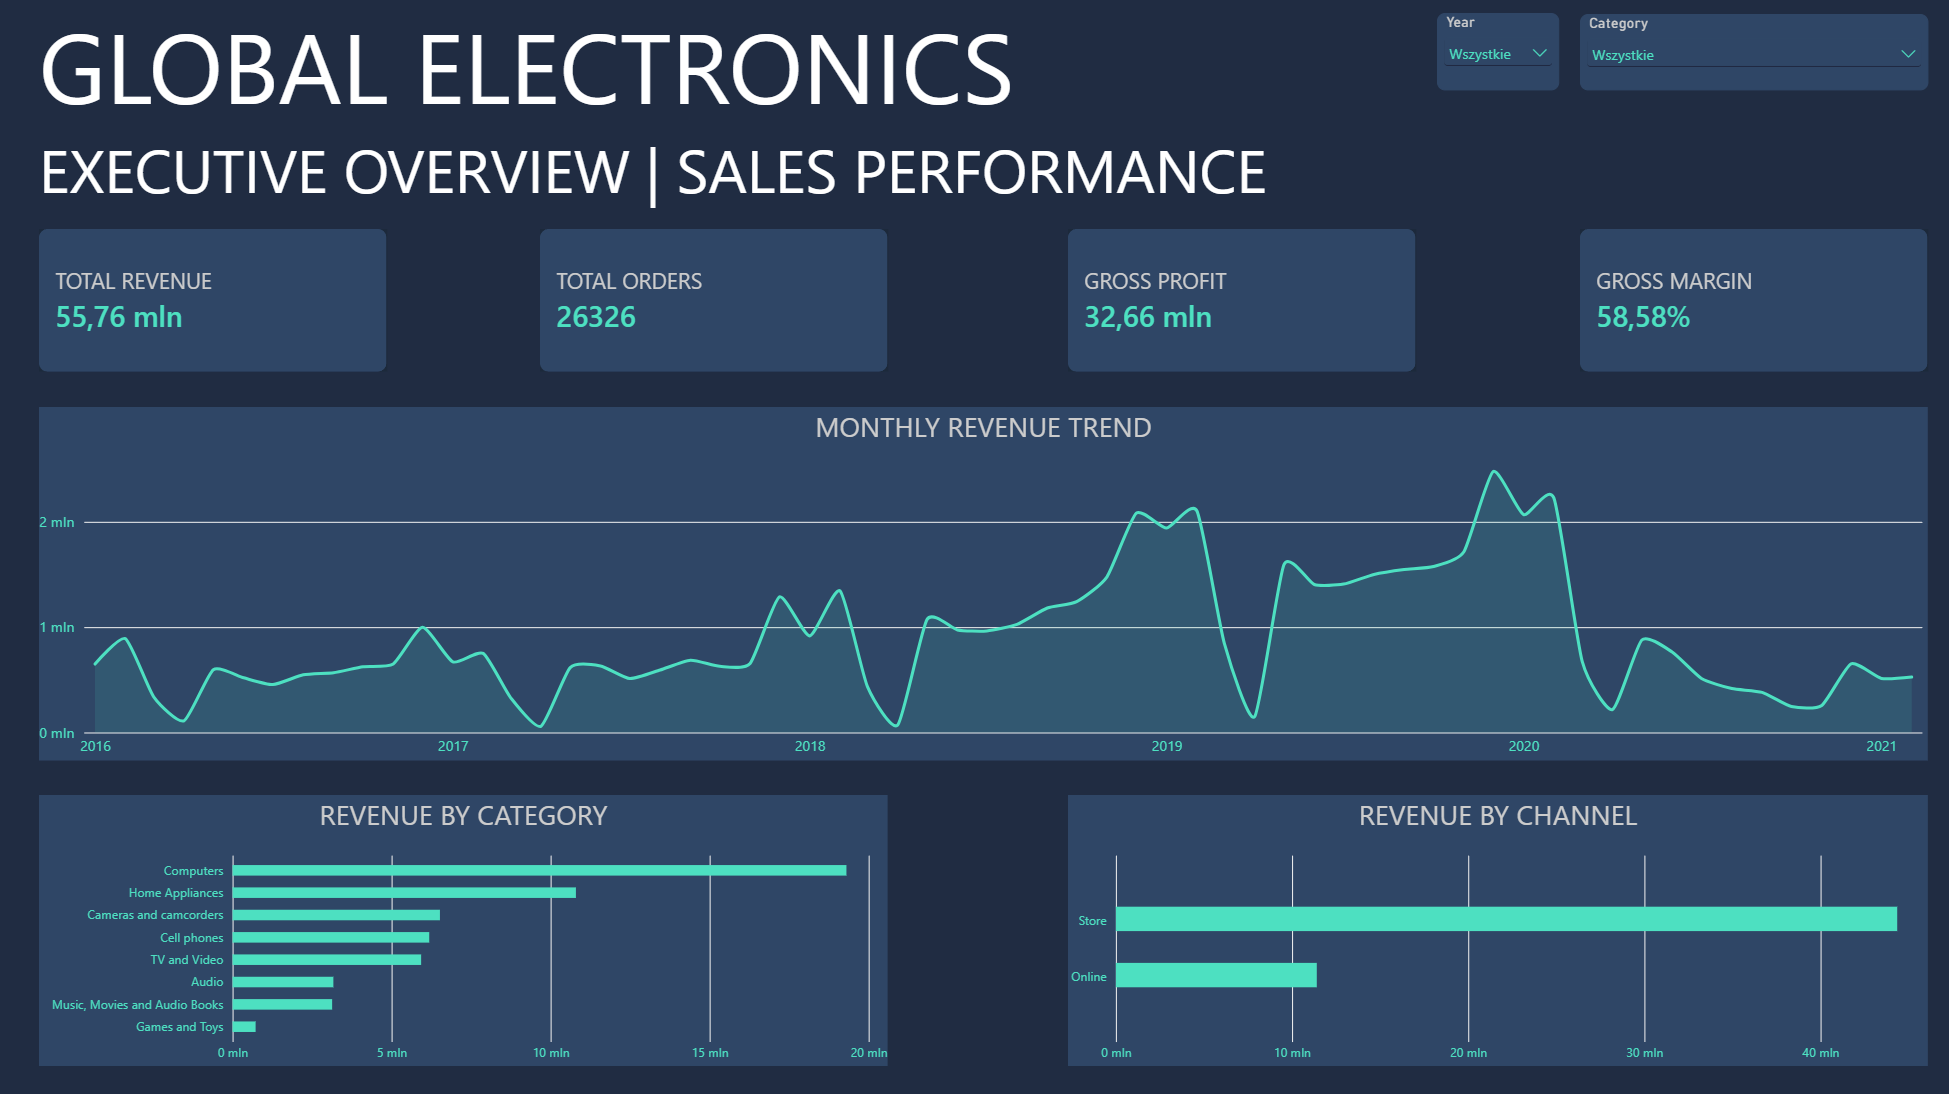

This screenshot's page, from the dashboard's own definition file:
{"tool":"powerbi","page":{"name":"Executive Overwiew","canvas":[1920,1080],"ordinal":0},"visuals":[{"type":"cardVisual","fields":{"Data":["sales.Total_Revenue"]},"box":[41.2,226.7,341.6,140.4],"z":0},{"type":"textbox","box":[41.2,0,1351.7,308.2],"z":1000},{"type":"cardVisual","fields":{"Data":["sales.GROSS_MARGIN"]},"box":[1553.9,226.7,341.6,140.4],"z":2000},{"type":"cardVisual","fields":{"Data":["sales.Gross_Profit"]},"box":[1051.3,226.7,341.6,140.4],"z":3000},{"type":"cardVisual","fields":{"Data":["sales.Total_Orders"]},"box":[533,226.7,341.6,140.4],"z":4000},{"type":"lineChart","title":"MONTHLY REVENUE TREND","fields":{"Category":["sales.Order_Date.Odmiana.Hierarchia dat.Rok","sales.Order_Date.Odmiana.Hierarchia dat.Miesiąc"],"Y":["sales.Total_Revenue"]},"box":[41.2,401.5,1854.2,347.5],"z":5000},{"type":"barChart","title":"REVENUE BY CATEGORY","fields":{"Category":["products.Category"],"Y":["sales.Total_Revenue"]},"box":[41.2,782.3,833.4,266],"z":6000},{"type":"barChart","title":"REVENUE BY CHANNEL","fields":{"Category":["stores.Sales Channel"],"Y":["sales.Total_Revenue"]},"box":[1051.3,782.3,844.2,266],"z":7000},{"type":"slicer","fields":{"Values":["sales.Order_Date.Odmiana.Hierarchia dat.Rok"]},"box":[1413.5,14.7,120,75.6],"z":8000},{"type":"slicer","fields":{"Values":["products.Category"]},"box":[1553.9,15.7,341.6,74.6],"z":9000}]}

Visuals, with their boxes in screenshot pixels (x1, y1, x2, y2), scaled from the page's 1920x1080 canvas onto the 1949x1094 screenshot:
cardVisual - sales.Total_Revenue: locate(42, 230, 389, 372)
textbox: locate(42, 0, 1414, 312)
cardVisual - sales.GROSS_MARGIN: locate(1577, 230, 1924, 372)
cardVisual - sales.Gross_Profit: locate(1067, 230, 1414, 372)
cardVisual - sales.Total_Orders: locate(541, 230, 888, 372)
"MONTHLY REVENUE TREND" lineChart: locate(42, 407, 1924, 759)
"REVENUE BY CATEGORY" barChart: locate(42, 792, 888, 1062)
"REVENUE BY CHANNEL" barChart: locate(1067, 792, 1924, 1062)
slicer - sales.Order_Date.Odmiana.Hierarchia dat.Rok: locate(1435, 15, 1557, 91)
slicer - products.Category: locate(1577, 16, 1924, 91)
